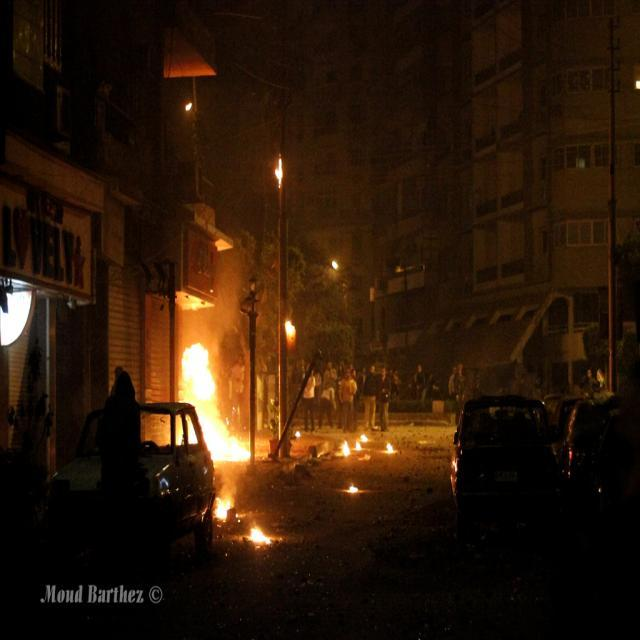Fire: (180, 344, 214, 406), (208, 417, 238, 456), (248, 523, 274, 548), (214, 489, 226, 517)
